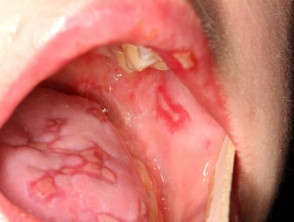SJS-TEN: (0, 91, 124, 215), (134, 68, 201, 148), (88, 192, 152, 222), (156, 41, 201, 81)
